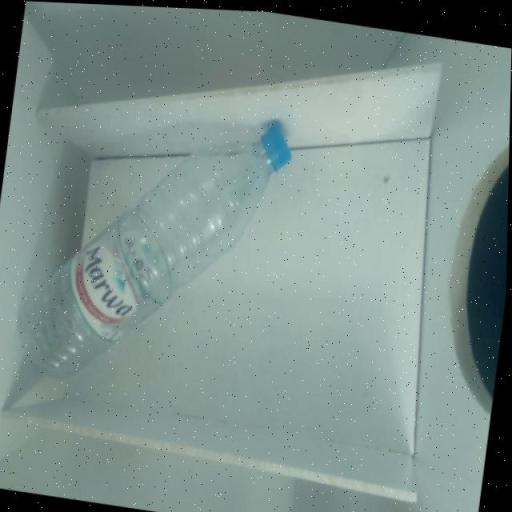plastic: (4, 82, 303, 424)
